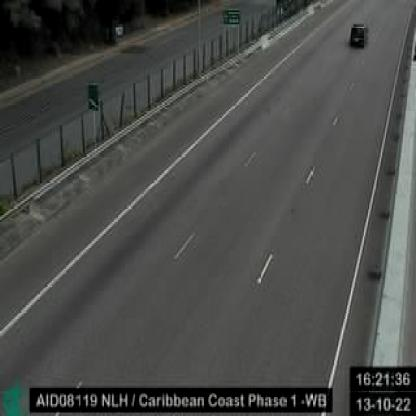Car: (348, 24, 368, 48)
